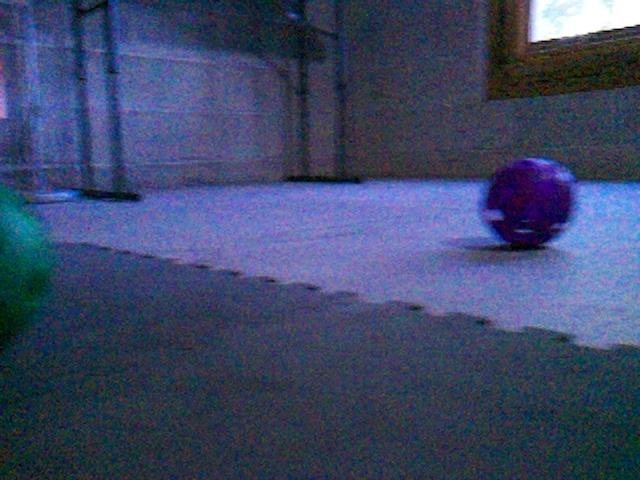Green: (0, 178, 62, 359)
Purple: (479, 155, 578, 248)
